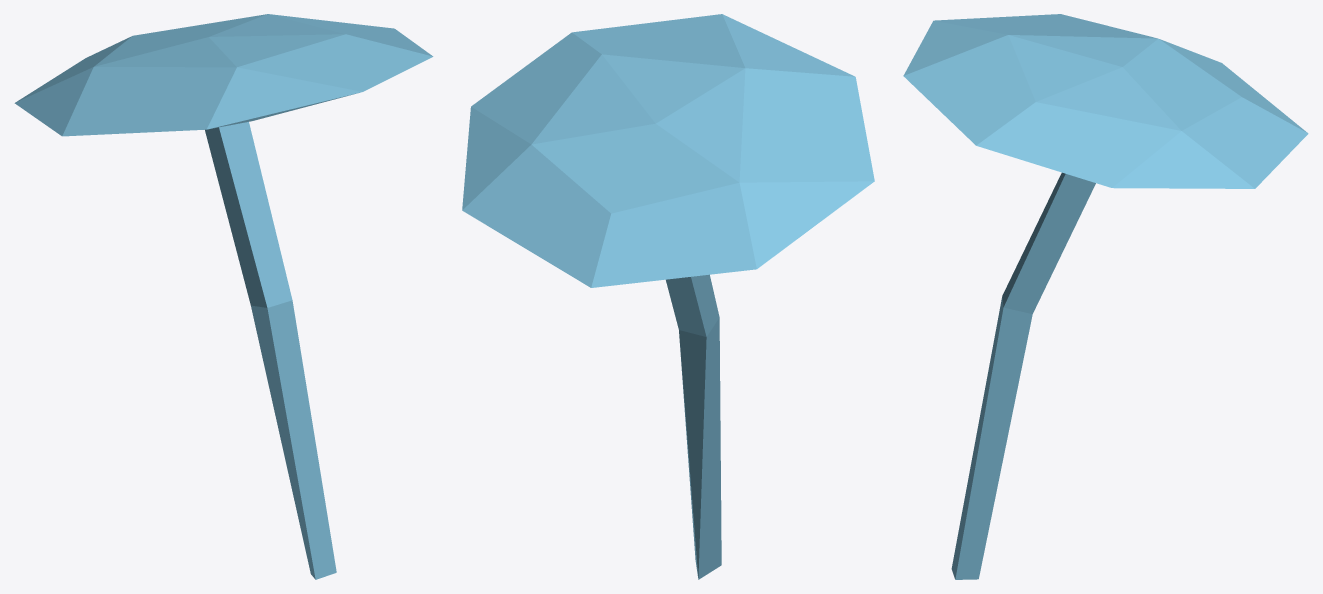
File: Mushroom_h_08_BIG.fbx
3 views of the same model, side by side, from view 1: azimuth 30°, elevation 25°; view 2: azimuth 150°, elevation 25°; view 3: azimuth 270°, elevation 25° (orthographic). The views are drawn at different scales.
Visible parts, largest first — view 1: Mushroom_h_05.001; view 2: Mushroom_h_05.001; view 3: Mushroom_h_05.001.
Part boxes in pixels (<box>): Mushroom_h_05.001: <box>14,14,433,579</box>; Mushroom_h_05.001: <box>462,14,874,579</box>; Mushroom_h_05.001: <box>903,14,1308,579</box>.
Bounding box in the file's own units: 409 × 557 × 397.
Materials: 1 (1 with a texture image).
